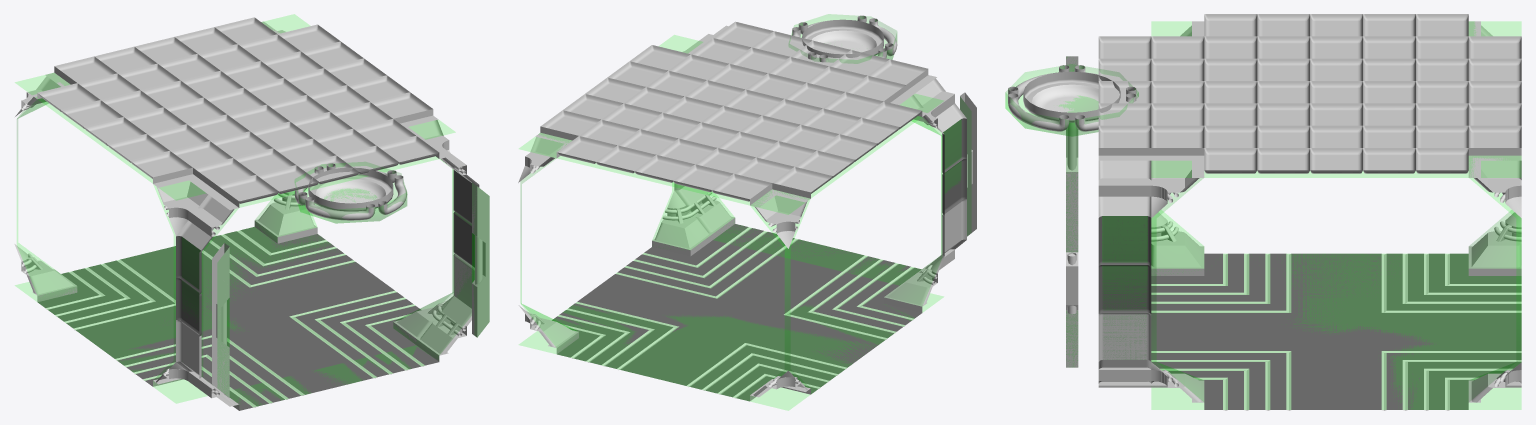
Rendered from Sci-fi Tunnel.fbx.
The picture shows the model from 3 angles, left to right: view 1: azimuth 30°, elevation 25°; view 2: azimuth 150°, elevation 25°; view 3: azimuth 270°, elevation 25°; orthographic projection. The views are drawn at different scales.
Parts seen in each view (by area): view 1: Scifi_Tunnel_JuncX_Walls, Scifi_Tunnel_JuncX_Floor, Scifi_Tunnel_JuncX_Floor_COL, Scifi_Tunnel_Walls, Scifi_Tunnel_JuncX_Walls_COL, Scifi_Tunnel_WallTubes, Scifi_Tunnel_Floor, Scifi_Tunnel_CeilingLight, Scifi_Tunnel_Walls_COL, Scifi_Tunnel_WallTubes_COL, Scifi_Tunnel_Floor_COL, Scifi_Tunnel_CeilingLight_COL; view 2: Scifi_Tunnel_JuncX_Walls, Scifi_Tunnel_JuncX_Floor, Scifi_Tunnel_JuncX_Floor_COL, Scifi_Tunnel_Walls, Scifi_Tunnel_JuncX_Walls_COL, Scifi_Tunnel_Floor, Scifi_Tunnel_Floor_COL, Scifi_Tunnel_CeilingLight, Scifi_Tunnel_Walls_COL, Scifi_Tunnel_WallTubes, Scifi_Tunnel_CeilingLight_COL, Scifi_Tunnel_WallTubes_COL; view 3: Scifi_Tunnel_JuncX_Walls, Scifi_Tunnel_JuncX_Floor, Scifi_Tunnel_JuncX_Floor_COL, Scifi_Tunnel_Walls, Scifi_Tunnel_JuncX_Walls_COL, Scifi_Tunnel_CeilingLight, Scifi_Tunnel_WallTubes, Scifi_Tunnel_Walls_COL, Scifi_Tunnel_CeilingLight_COL, Scifi_Tunnel_WallTubes_COL.
Part boxes in pixels (x1=…): Scifi_Tunnel_JuncX_Walls: x1=14, y1=17, x2=451, y2=387; Scifi_Tunnel_JuncX_Floor: x1=38, y1=227, x2=420, y2=390; Scifi_Tunnel_JuncX_Floor_COL: x1=15, y1=227, x2=414, y2=403; Scifi_Tunnel_Walls: x1=176, y1=136, x2=479, y2=410; Scifi_Tunnel_JuncX_Walls_COL: x1=15, y1=14, x2=454, y2=386; Scifi_Tunnel_WallTubes: x1=212, y1=182, x2=489, y2=397; Scifi_Tunnel_Floor: x1=229, y1=345, x2=438, y2=410; Scifi_Tunnel_CeilingLight: x1=294, y1=163, x2=407, y2=220; Scifi_Tunnel_Walls_COL: x1=182, y1=156, x2=471, y2=376; Scifi_Tunnel_WallTubes_COL: x1=218, y1=183, x2=488, y2=395; Scifi_Tunnel_Floor_COL: x1=230, y1=346, x2=423, y2=406; Scifi_Tunnel_CeilingLight_COL: x1=295, y1=162, x2=406, y2=223; Scifi_Tunnel_JuncX_Walls: x1=518, y1=38, x2=944, y2=400; Scifi_Tunnel_JuncX_Floor: x1=552, y1=240, x2=921, y2=401; Scifi_Tunnel_JuncX_Floor_COL: x1=519, y1=244, x2=942, y2=410; Scifi_Tunnel_Walls: x1=674, y1=21, x2=966, y2=281; Scifi_Tunnel_JuncX_Walls_COL: x1=519, y1=35, x2=942, y2=400; Scifi_Tunnel_Floor: x1=713, y1=224, x2=921, y2=285; Scifi_Tunnel_Floor_COL: x1=714, y1=227, x2=920, y2=284; Scifi_Tunnel_CeilingLight: x1=792, y1=15, x2=897, y2=62; Scifi_Tunnel_Walls_COL: x1=678, y1=120, x2=960, y2=253; Scifi_Tunnel_WallTubes: x1=960, y1=92, x2=976, y2=236; Scifi_Tunnel_CeilingLight_COL: x1=789, y1=14, x2=896, y2=63; Scifi_Tunnel_WallTubes_COL: x1=960, y1=97, x2=970, y2=235; Scifi_Tunnel_JuncX_Walls: x1=1151, y1=14, x2=1521, y2=402; Scifi_Tunnel_JuncX_Floor: x1=1151, y1=253, x2=1521, y2=410; Scifi_Tunnel_JuncX_Floor_COL: x1=1152, y1=254, x2=1520, y2=409; Scifi_Tunnel_Walls: x1=1098, y1=36, x2=1151, y2=387; Scifi_Tunnel_JuncX_Walls_COL: x1=1151, y1=22, x2=1521, y2=401; Scifi_Tunnel_CeilingLight: x1=1008, y1=65, x2=1136, y2=131; Scifi_Tunnel_WallTubes: x1=1066, y1=56, x2=1078, y2=367; Scifi_Tunnel_Walls_COL: x1=1102, y1=216, x2=1147, y2=332; Scifi_Tunnel_CeilingLight_COL: x1=1005, y1=64, x2=1138, y2=136; Scifi_Tunnel_WallTubes_COL: x1=1066, y1=136, x2=1077, y2=363.
Size of the model in its own units: 7 by 5.02 by 9.76.
